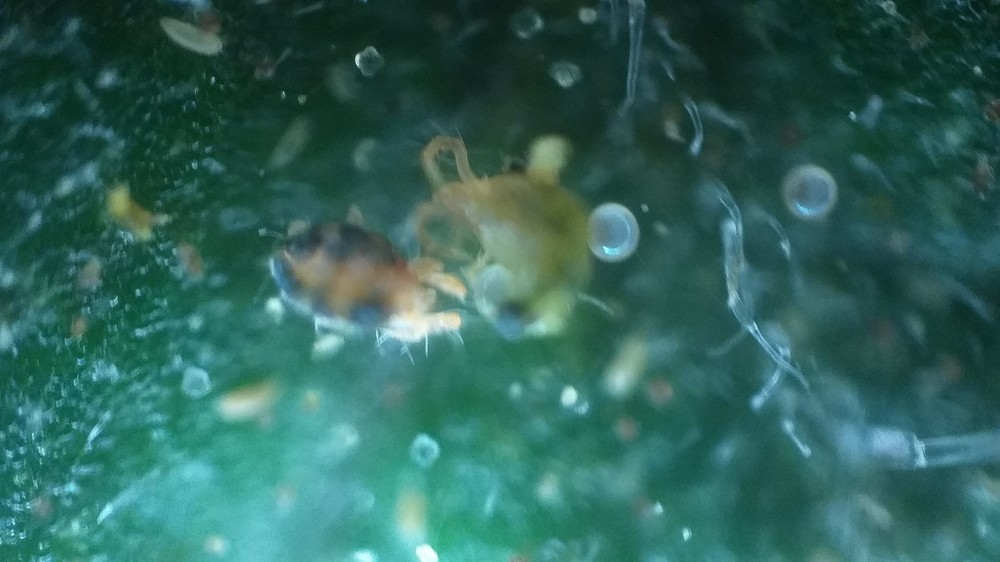Aracnido Rojo: (421, 120, 648, 383), (234, 199, 466, 372)
